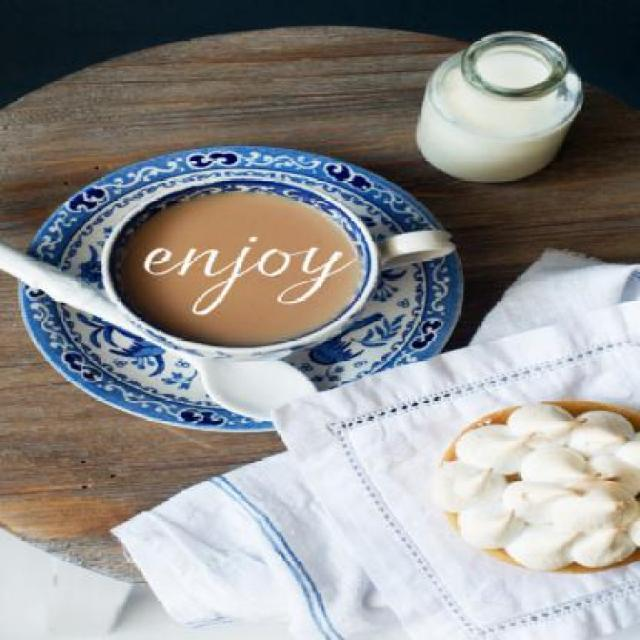Milk: (434, 24, 586, 178)
